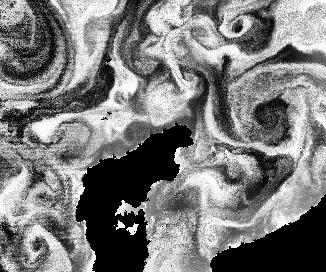CE: (236, 75, 305, 150), (220, 11, 255, 39), (21, 226, 52, 255)
